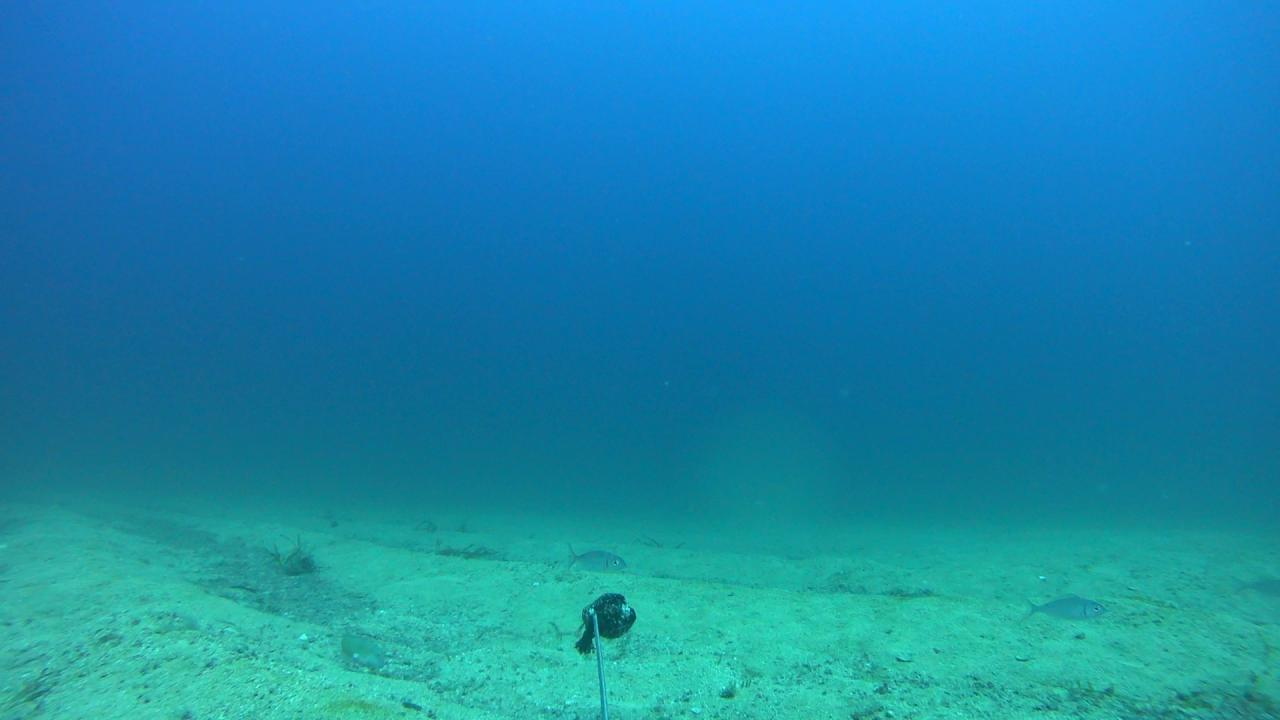pagellus: (1018, 589, 1109, 627), (566, 541, 626, 573)
raor: (342, 629, 389, 673)
